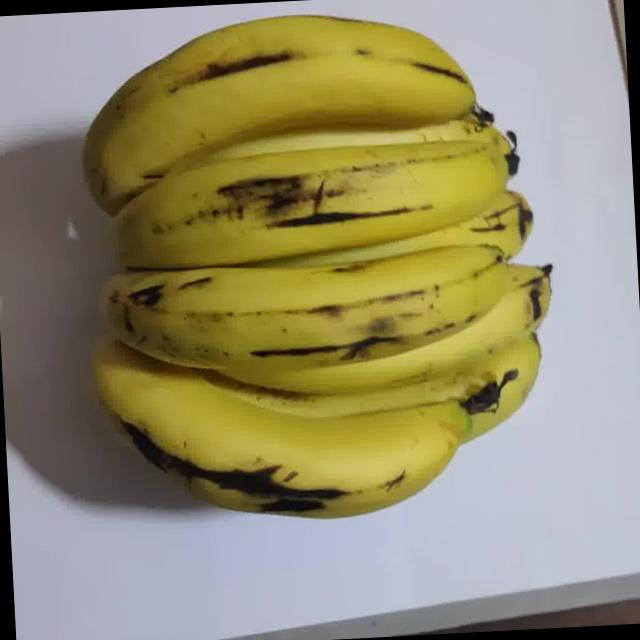banana_pacche: (5, 0, 635, 623)
